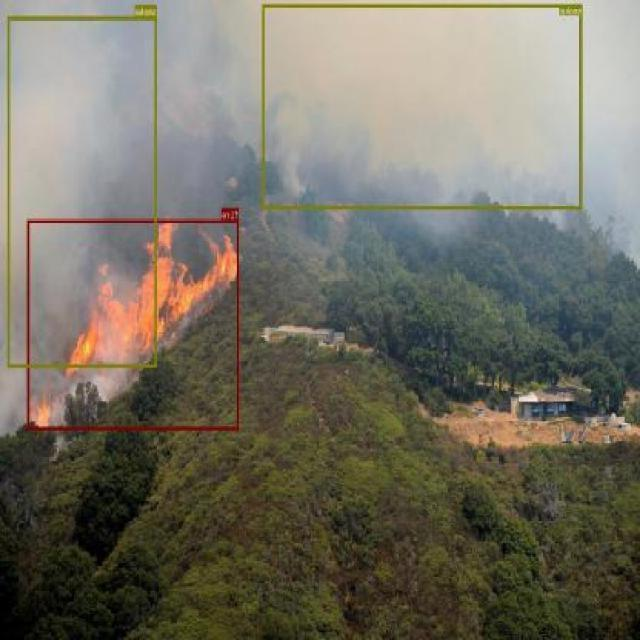Fire: (28, 218, 240, 430)
Smoke: (263, 3, 583, 208), (8, 16, 157, 367)
